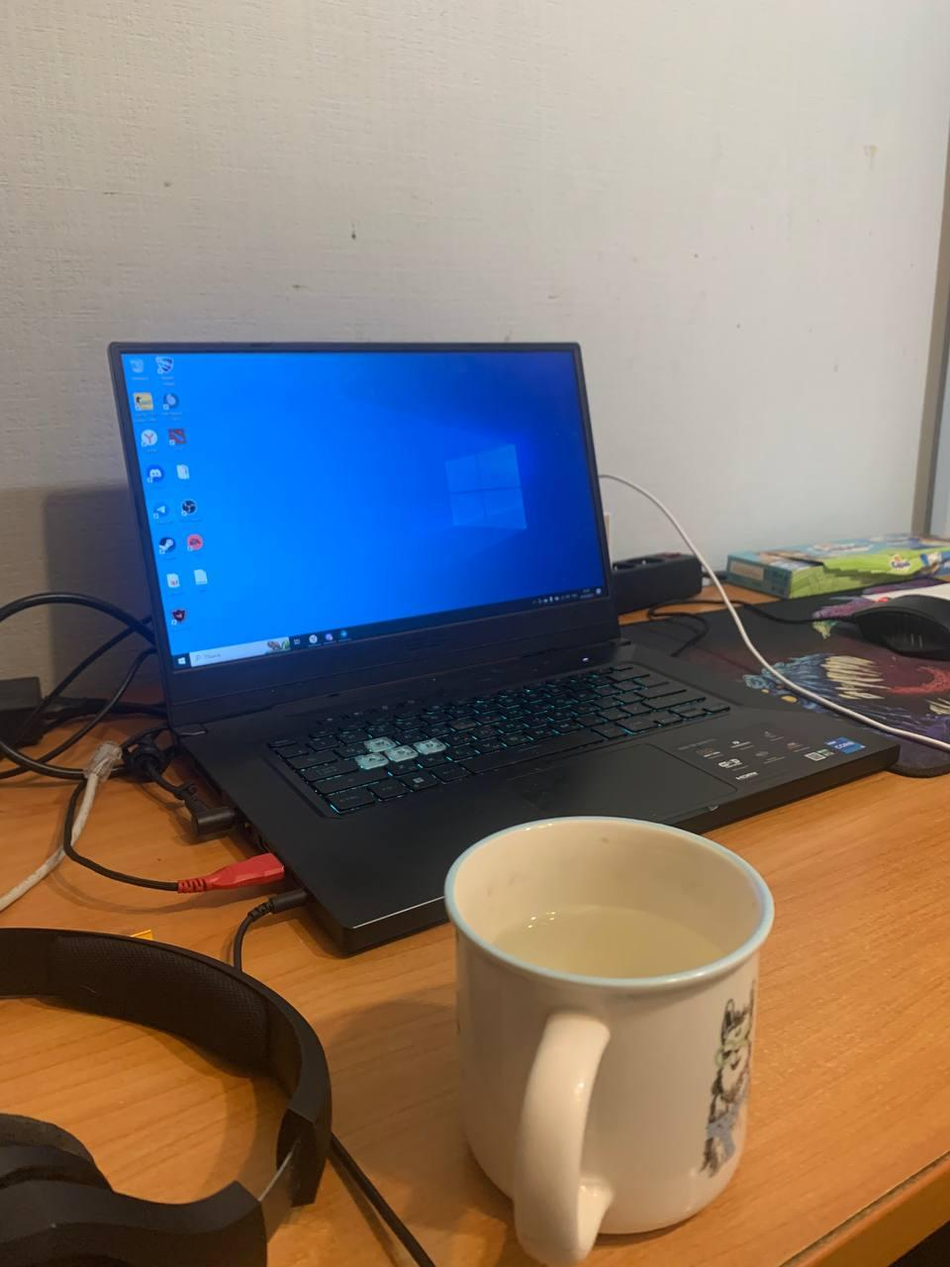monitor: (101, 329, 627, 734)
